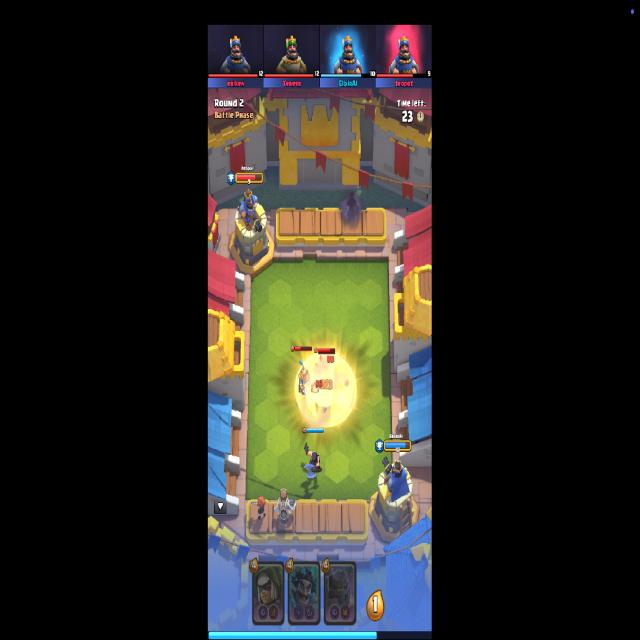card_bandit: (252, 560, 284, 626)
card_e_wiz: (288, 558, 320, 626)
card_mega_knight: (323, 560, 356, 626)
executioner: (304, 446, 323, 479)
giant_skeleton: (274, 488, 296, 525)
mega_knight: (316, 356, 337, 394)
prince: (296, 361, 312, 400)
valkyrie: (251, 497, 267, 520)
